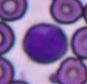L: (23, 22, 67, 64)
